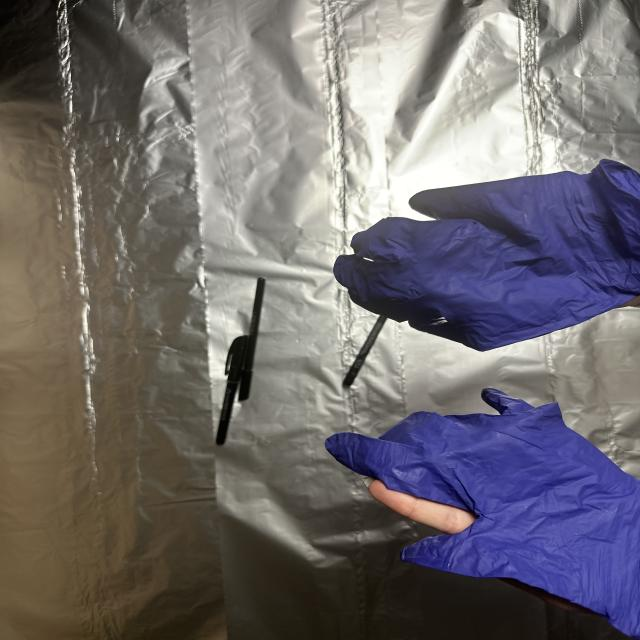glove_not_fitted: (320, 385, 640, 635), (331, 158, 640, 355)
